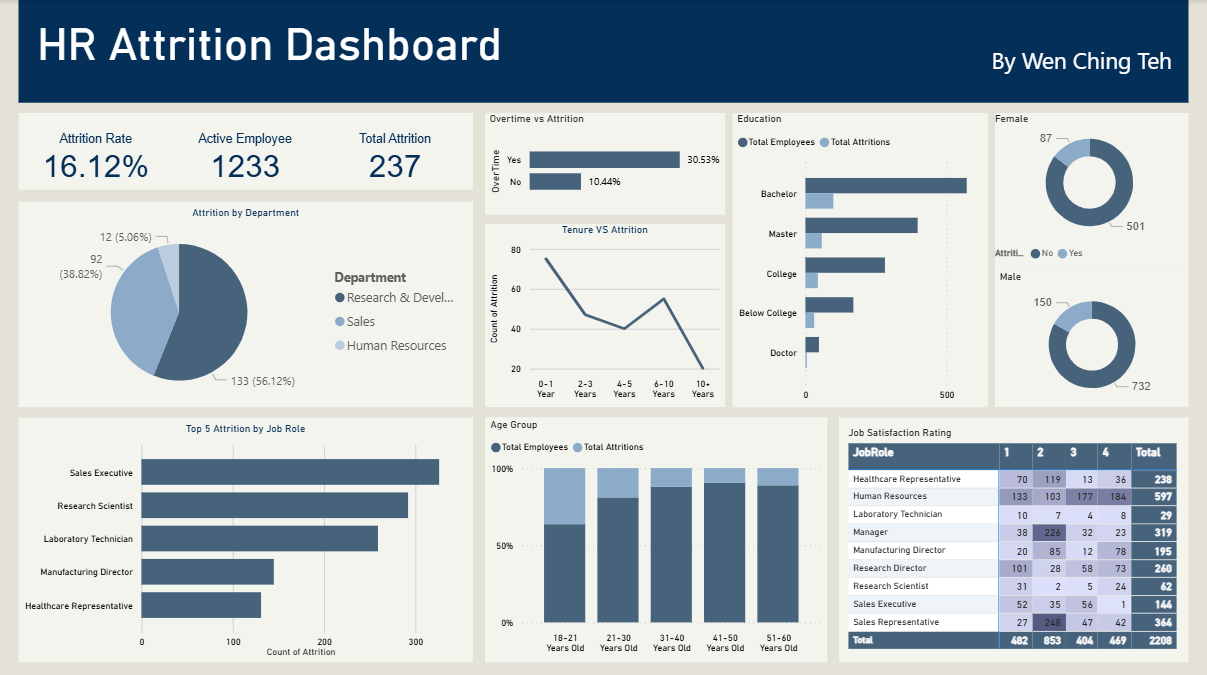

The dashboard page shown, as its layout file describes it:
{"tool":"powerbi","page":{"name":"Page 1","canvas":[1280,720],"ordinal":0},"visuals":[{"type":"pieChart","title":"Attrition by Department","fields":{"Category":["Attrition Rate By Department.Department"],"Y":["Sum(Attrition Rate By Department.total_attrition)"]},"box":[20.7,214.7,482,217.9],"z":0},{"type":"lineChart","title":"Tenure VS Attrition","fields":{"Category":["Tenure_Attrition Rate.Tenure_group"],"Y":["Sum(Tenure_Attrition Rate.total_attrition)"]},"box":[515.4,238.6,254.5,194.1],"z":1000},{"type":"card","title":"Active Employee","fields":{"Values":["Sum(total_employee_attrition.total_employee)"]},"box":[184.5,120.9,152.7,81.1],"z":2000},{"type":"card","title":"Total Attrition","fields":{"Values":["Sum(total_employee_attrition.total_employee)"]},"box":[337.2,120.9,165.4,81.1],"z":3000},{"type":"card","title":"Attrition Rate","fields":{"Values":["total_employee_attrition.Attrition Rate"]},"box":[20.7,120.9,163.8,81.1],"z":4000},{"type":"clusteredBarChart","title":"Top 5 Attrition by Job Role","fields":{"Category":["Job Role_Attrition.JobRole"],"Y":["Sum(Job Role_Attrition.total_attrition)"]},"box":[20.7,443.8,482,259.3],"z":5000},{"type":"donutChart","title":"Female","fields":{"Y":["Count(Gender_Attrition.EmployeeNumber)"],"Category":["Gender_Attrition.Attrition"]},"box":[1056.2,120.9,205.2,167],"z":7000},{"type":"hundredPercentStackedColumnChart","title":"Age Group","fields":{"Category":["Age Distribution.Age_range"],"Y":["Sum(Age Distribution.total_employees)","Sum(Age Distribution.total_attriton)"]},"box":[515.4,443.8,362.7,259.3],"z":9000},{"type":"donutChart","title":"Male","fields":{"Y":["Count(Gender_Attrition.EmployeeNumber)"],"Category":["Gender_Attrition.Attrition"]},"box":[1056.2,287.9,205.2,144.7],"z":9001},{"type":"textbox","box":[20.7,0,1240.7,109.8],"z":9002},{"type":"clusteredBarChart","title":"Education","fields":{"Category":["Attrition_EducationLevel.Education_level"],"Y":["Sum(Attrition_EducationLevel.total_employees)","Sum(Attrition_EducationLevel.total_attrition)"]},"box":[777.8,120.9,270.4,311.8],"z":9003},{"type":"pivotTable","title":"Job Satisfaction Rating","fields":{"Rows":["JobRole_Satisfaction.JobRole"],"Columns":["JobRole_Satisfaction.JobSatisfaction"],"Values":["Sum(JobRole_Satisfaction.EmployeeNumber)"]},"box":[890.7,443.8,370.6,259.3],"z":9004},{"type":"barChart","title":"Overtime vs Attrition","fields":{"Category":["Overtime_Attrition.OverTime"],"Y":["Sum(Overtime_Attrition.total_attrition_percentage)"]},"box":[515.4,120.9,254.5,108.2],"z":9005},{"type":"textbox","box":[949.6,42.9,299,47.7],"z":9006}]}

Visuals, with their boxes in screenshot pixels (x1, y1, x2, y2), scaled from the page's 1280x720 canvas onto the 1207x675 screenshot:
"Attrition by Department" pieChart: x1=20, y1=201, x2=474, y2=406
"Tenure VS Attrition" lineChart: x1=486, y1=224, x2=726, y2=406
"Active Employee" card: x1=174, y1=113, x2=318, y2=189
"Total Attrition" card: x1=318, y1=113, x2=474, y2=189
"Attrition Rate" card: x1=20, y1=113, x2=174, y2=189
"Top 5 Attrition by Job Role" clusteredBarChart: x1=20, y1=416, x2=474, y2=659
"Female" donutChart: x1=996, y1=113, x2=1189, y2=270
"Age Group" hundredPercentStackedColumnChart: x1=486, y1=416, x2=828, y2=659
"Male" donutChart: x1=996, y1=270, x2=1189, y2=406
textbox: x1=20, y1=0, x2=1189, y2=103
"Education" clusteredBarChart: x1=733, y1=113, x2=988, y2=406
"Job Satisfaction Rating" pivotTable: x1=840, y1=416, x2=1189, y2=659
"Overtime vs Attrition" barChart: x1=486, y1=113, x2=726, y2=215
textbox: x1=895, y1=40, x2=1177, y2=85
